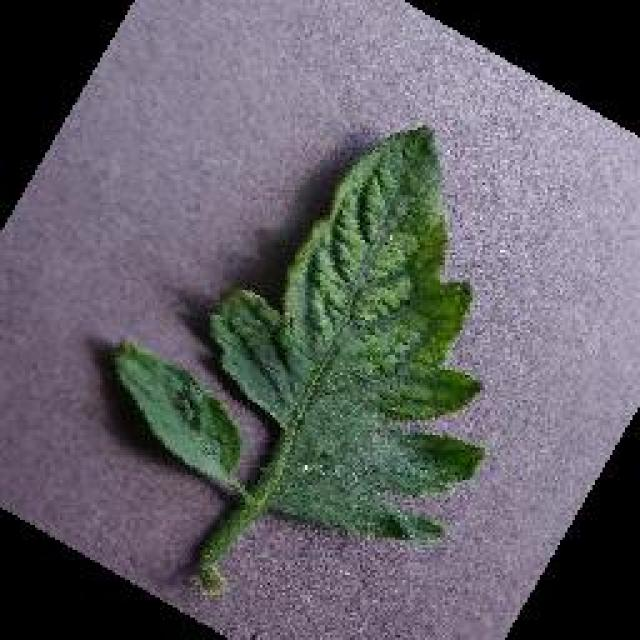Tomato___Tomato_mosaic_virus: (115, 128, 480, 592)
